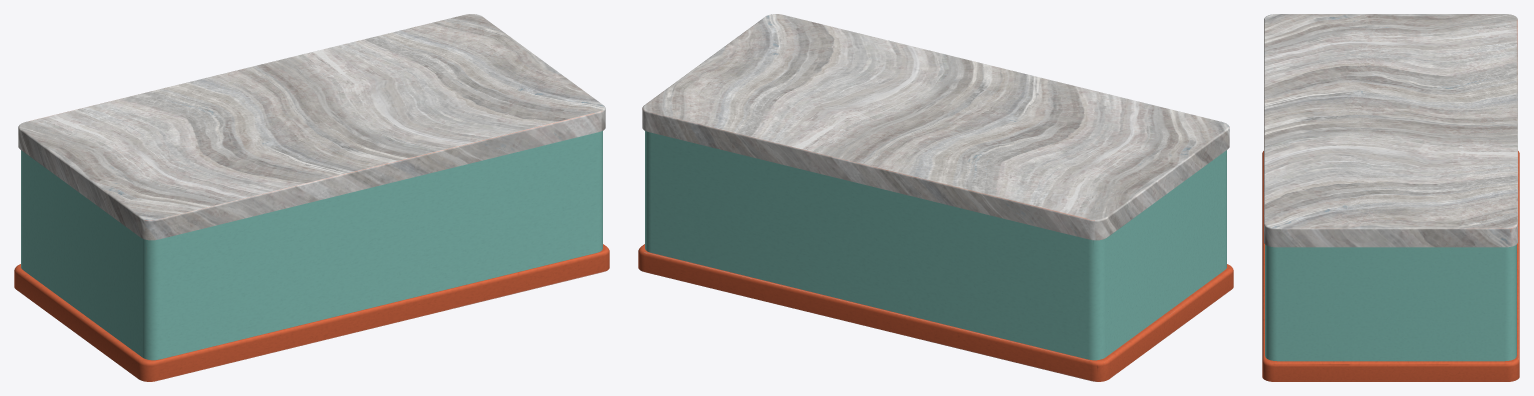
Rendered from KitchenIsland.fbx.
3 renders of one model, left to right at view 1: azimuth 30°, elevation 25°; view 2: azimuth 150°, elevation 25°; view 3: azimuth 270°, elevation 25°, orthographic. The views are drawn at different scales.
Visible parts, largest first — view 1: KitchenIsland_Baked; view 2: KitchenIsland_Baked; view 3: KitchenIsland_Baked.
Part boxes in pixels (x1=…): KitchenIsland_Baked: x1=14, y1=14, x2=609, y2=381; KitchenIsland_Baked: x1=638, y1=14, x2=1233, y2=381; KitchenIsland_Baked: x1=1262, y1=14, x2=1519, y2=381.
Bounding box in the file's own units: 307 × 100 × 153.
1 material, 1 textured.
